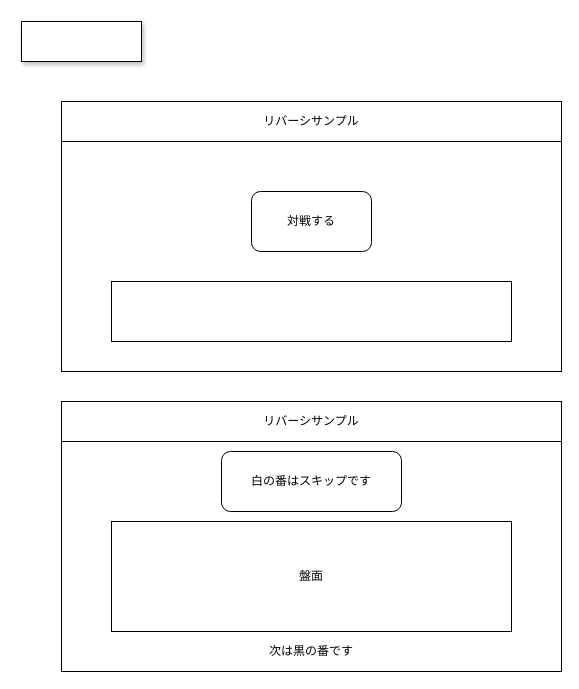
Some shapes in this 579 by 689 pixel diagram are drawn without their labels. The centre of each missing label's shape, as x and y in pixels:
"画面イメージ" goes at point (82, 42).
"過去の対戦結果" goes at point (311, 311).
